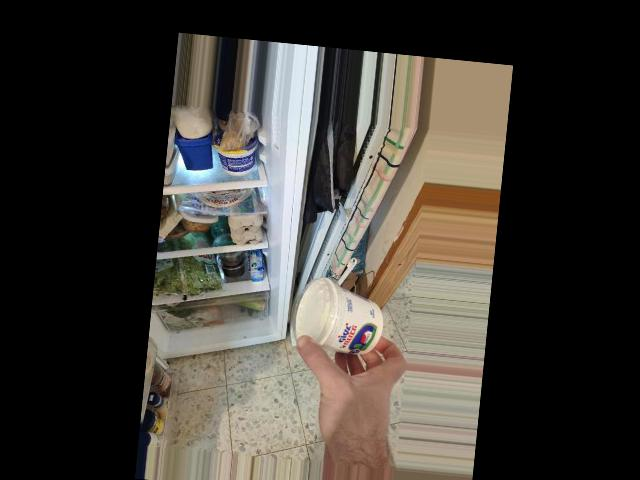cotage: (294, 278, 386, 362)
